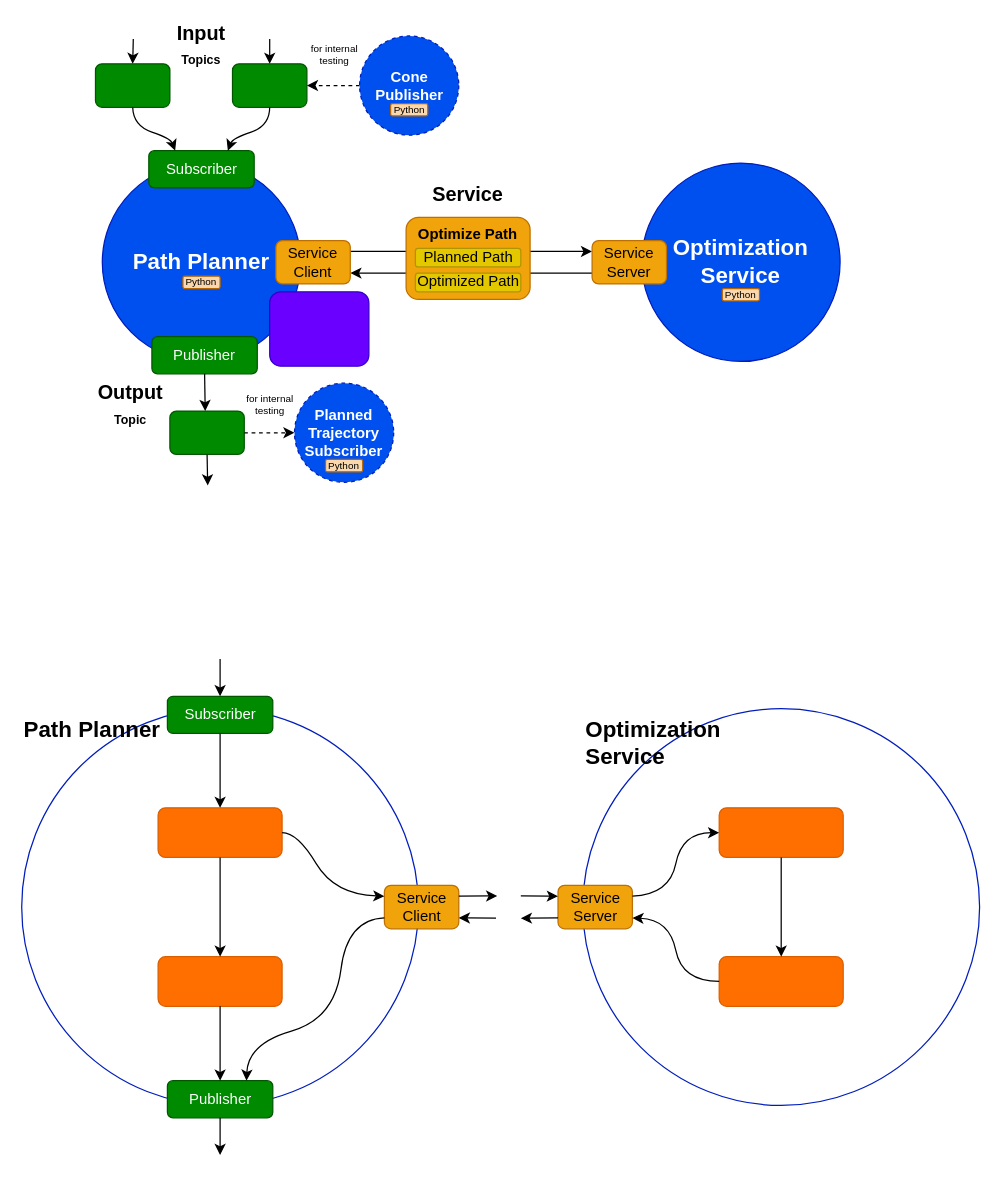
This 1002x1187 diagram has some shape labels left out. The centre of each missing label's shape, as x and y in pixels:
Cone: point 269,85
Current Position: point 132,85
Exploration Algorithm: point 219,980
Optimization Algorithm: point 780,980
Optimization Input Transformer: point 780,832
Parameters - TrackConfig - Mode: point 318,328
Planned Trajectory: point 206,432
Start Finish Detector: point 219,832
